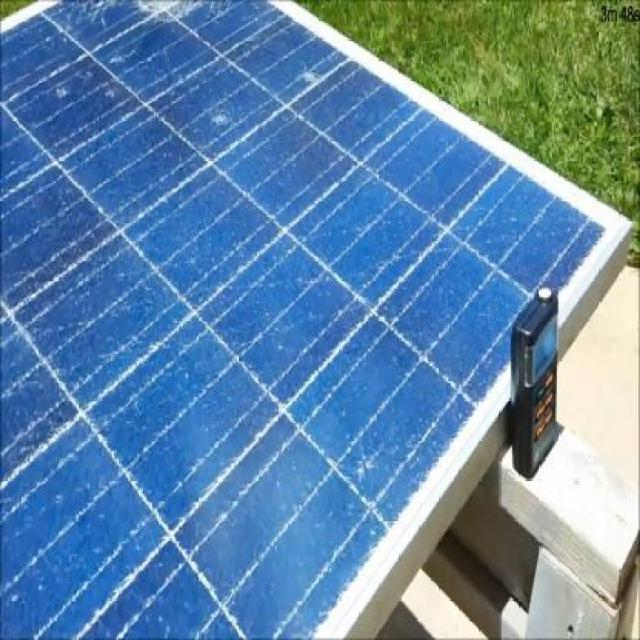cracked: (0, 3, 600, 631)
